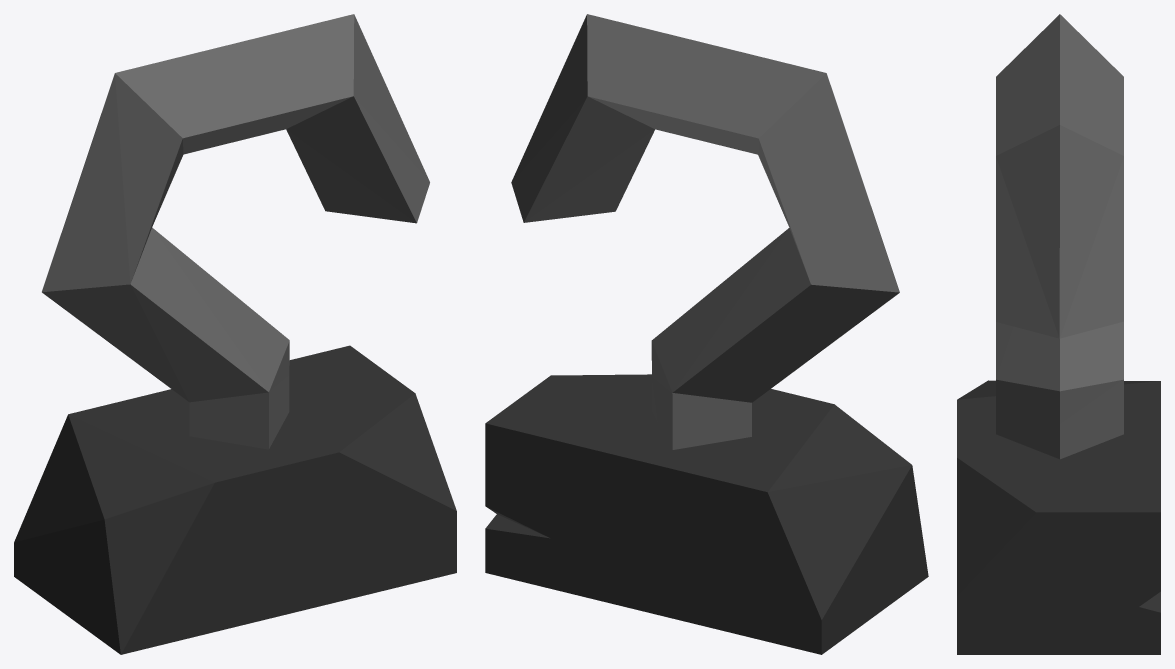
File: ChainHook.fbx
3 views of the same model, side by side, from view 1: azimuth 30°, elevation 25°; view 2: azimuth 150°, elevation 25°; view 3: azimuth 270°, elevation 25° (orthographic). The views are drawn at different scales.
Visible parts, largest first — view 1: ChainHook; view 2: ChainHook; view 3: ChainHook.
Boxes of the visible parts, left/top/right/bottom form: ChainHook: left=14, top=14, right=456, bottom=654; ChainHook: left=485, top=14, right=928, bottom=654; ChainHook: left=957, top=14, right=1160, bottom=654.
Size of the model in its own units: 267 by 349 by 127.
